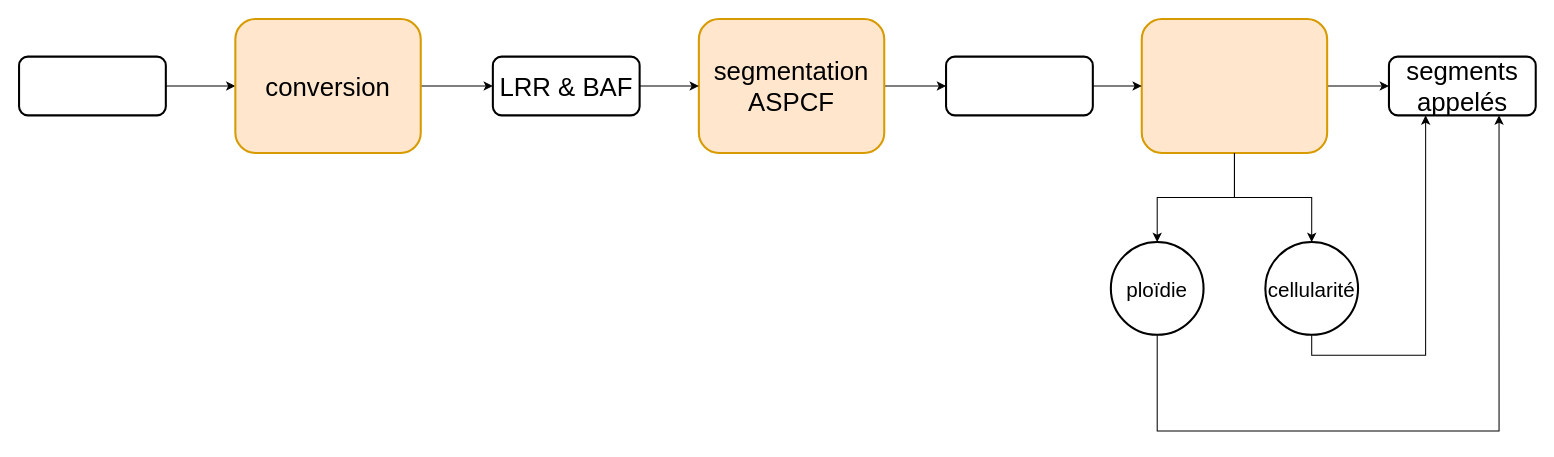
Some shapes in this 1554 by 457 pixel diagram are drawn without their labels. The shapes that lost their labels are listed below. From the top down, each one's box as (x1, y1, x2, y2) in pixels, then its label:
(18, 55, 166, 116): fichier puce
(945, 55, 1093, 116): segments
(1140, 18, 1328, 153): calling
